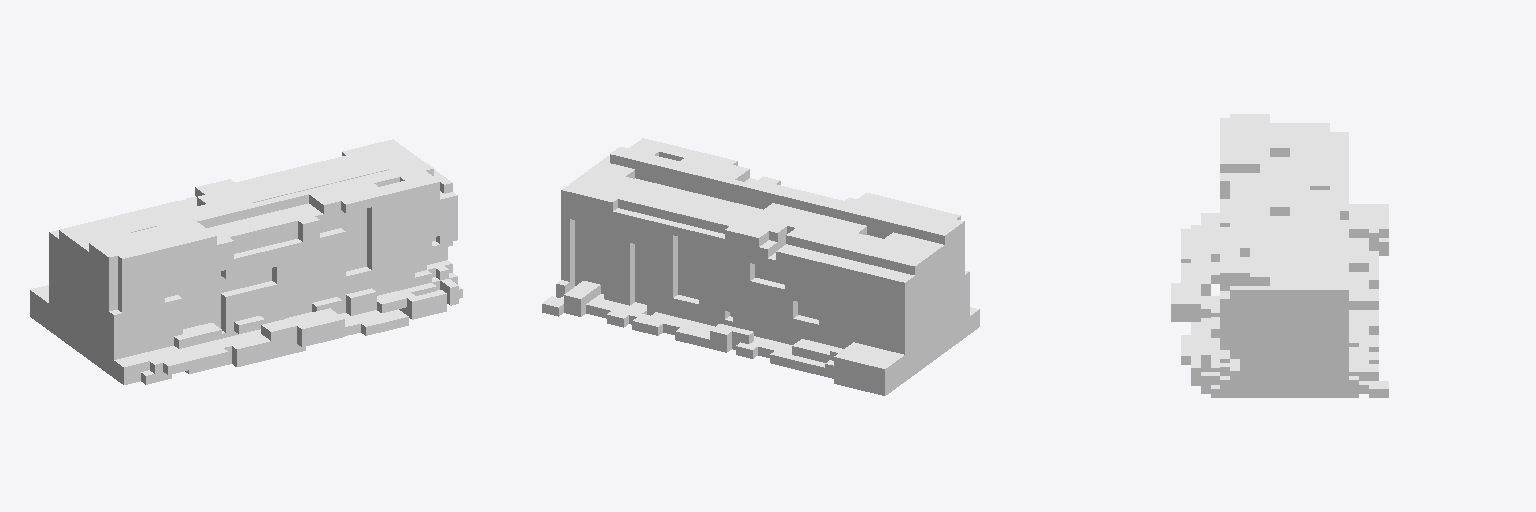
Rendered from winterwallprefab.obj.
3 renders of one model, left to right at view 1: azimuth 30°, elevation 25°; view 2: azimuth 150°, elevation 25°; view 3: azimuth 270°, elevation 25°, orthographic.
Parts seen in each view (by area): view 1: object 1; view 2: object 1; view 3: object 1.
Part boxes in pixels (left/top/right/bottom): object 1: left=30, top=139, right=462, bottom=384; object 1: left=542, top=138, right=979, bottom=395; object 1: left=1171, top=114, right=1388, bottom=397.
Size of the model in its own units: 4 by 1.3 by 2.2.